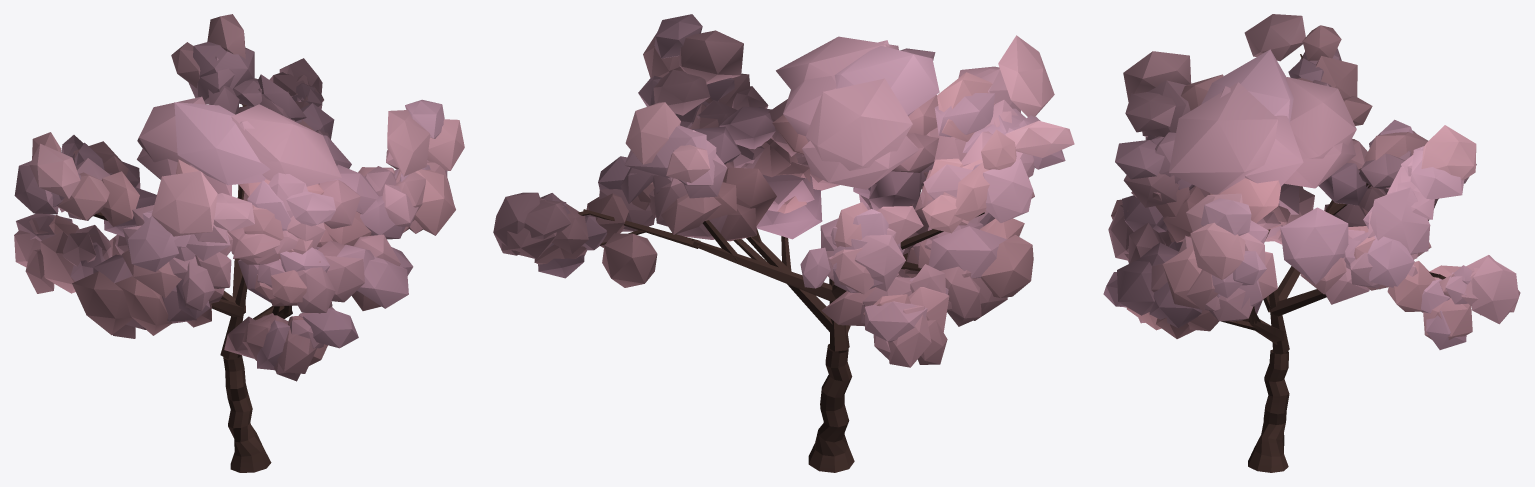
The model's file is tree_cherry.glb.
3 views of the same model, side by side, from view 1: azimuth 30°, elevation 25°; view 2: azimuth 150°, elevation 25°; view 3: azimuth 270°, elevation 25° (orthographic). The views are drawn at different scales.
Visible parts, largest first — view 1: tree_cherry; view 2: tree_cherry; view 3: tree_cherry.
Part boxes in pixels (x1,y1,x2,y2): tree_cherry: (14, 14, 464, 472); tree_cherry: (493, 14, 1074, 472); tree_cherry: (1103, 14, 1520, 472).
Size of the model in its own units: 6.52 by 5.92 by 5.87.
